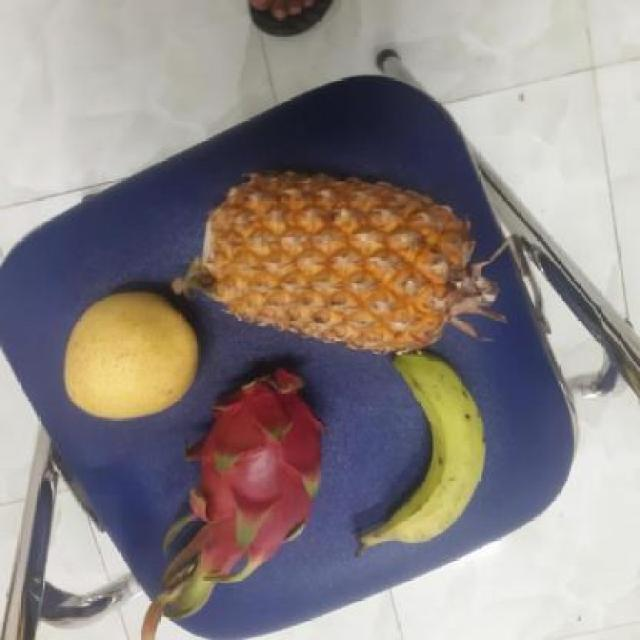banana: (360, 360, 491, 548)
dragon fruit: (175, 373, 332, 569)
pear: (62, 292, 207, 418)
pineapple: (186, 170, 494, 352)
